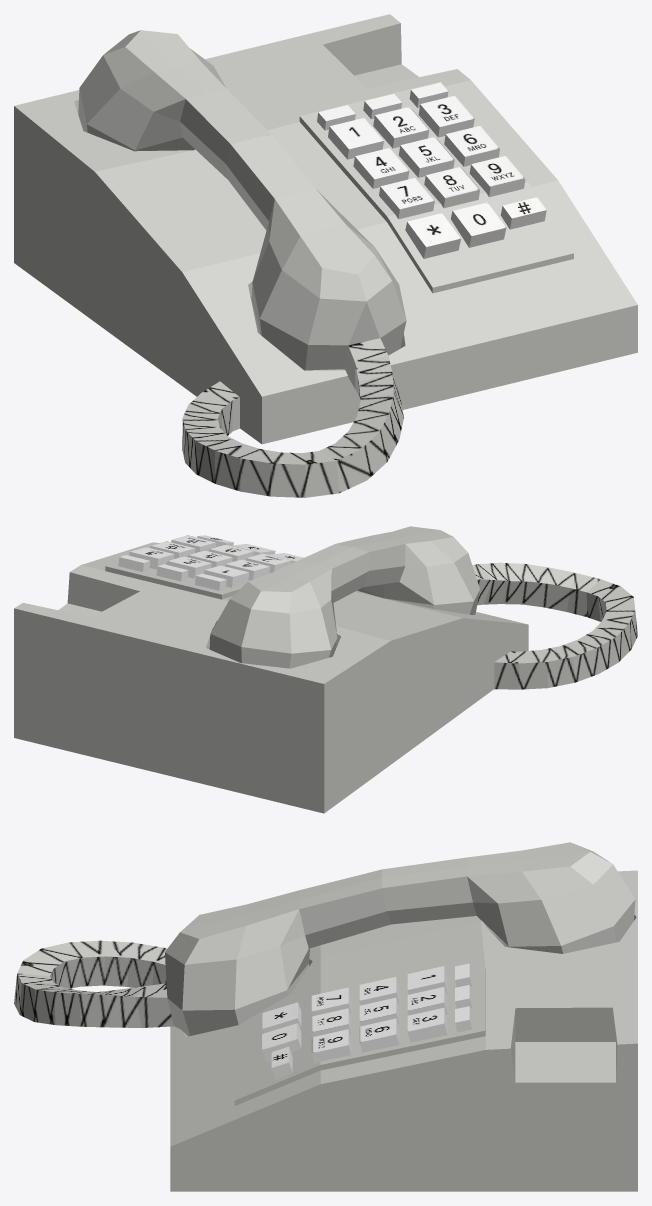
The model's file is Phone.fbx.
The picture shows the model from 3 angles, top to bottom: view 1: azimuth 30°, elevation 25°; view 2: azimuth 150°, elevation 25°; view 3: azimuth 270°, elevation 25°; orthographic projection. The views are drawn at different scales.
Visible parts, largest first — view 1: Cube.004; view 2: Cube.004; view 3: Cube.004.
Boxes of the visible parts, x1,y1,x2,y2 form: Cube.004: (14,14,637,497); Cube.004: (14,526,637,813); Cube.004: (14,842,637,1191).
Bounding box in the file's own units: 200 × 93.27 × 247.
